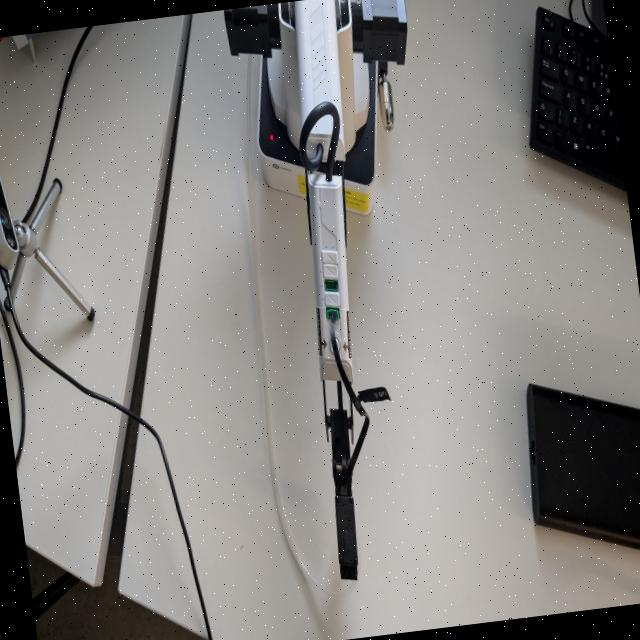Robot-end-effector-HF8z: (325, 483, 370, 589)
